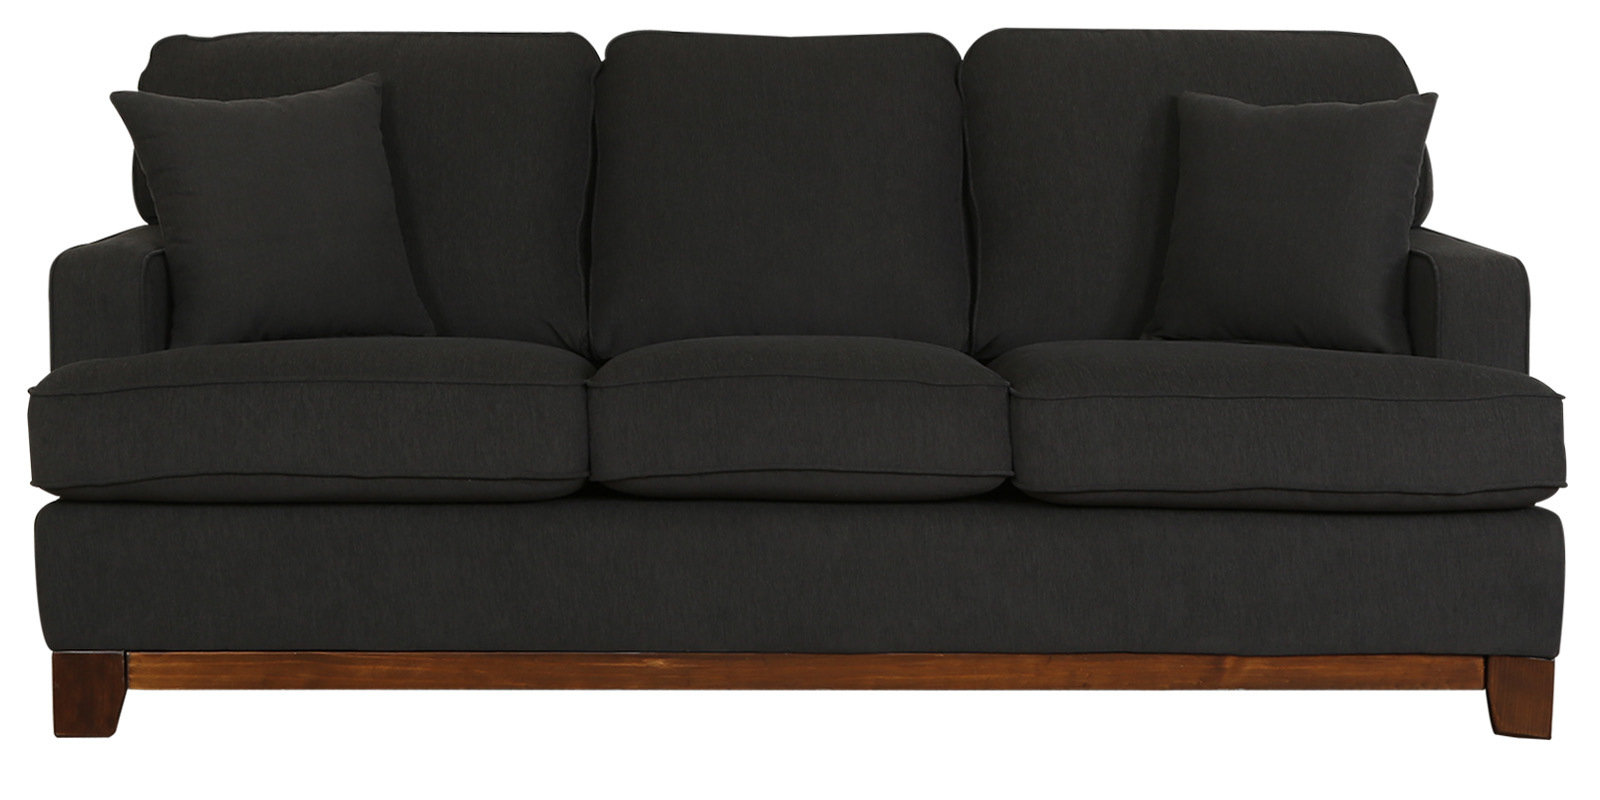Parana Three Seater Sofa in Charcoal Grey Color by CasaCraft: (24, 31, 1569, 742)
